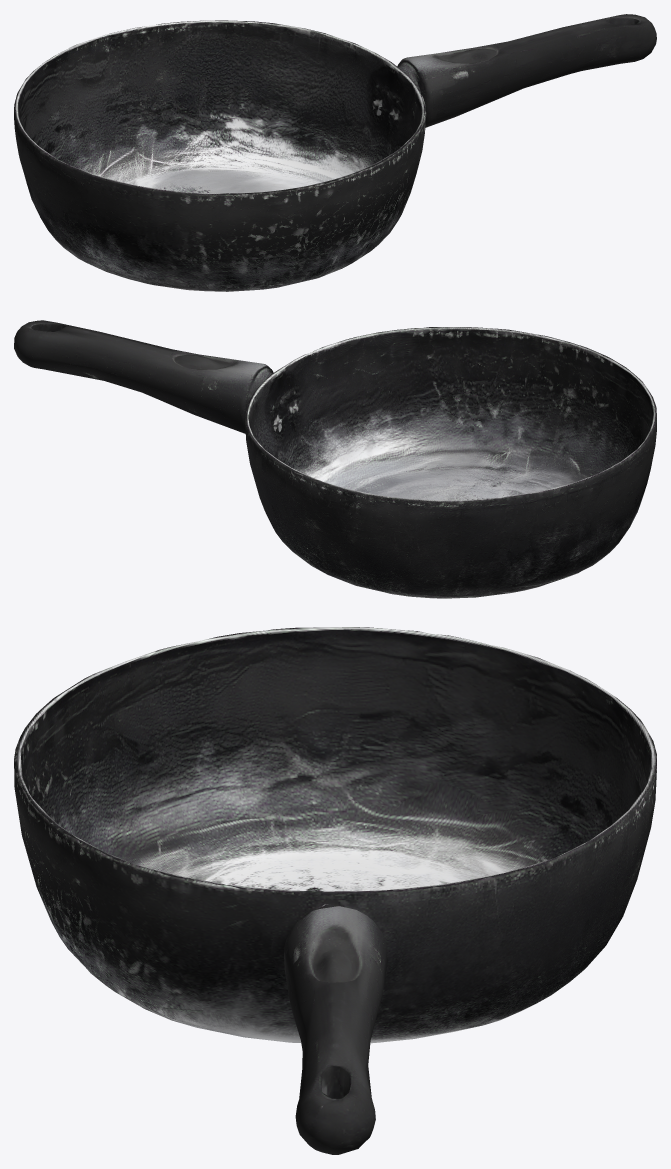
File: FryingPan.fbx
The picture shows the model from 3 angles, top to bottom: view 1: azimuth 30°, elevation 25°; view 2: azimuth 150°, elevation 25°; view 3: azimuth 270°, elevation 25°; orthographic projection. The views are drawn at different scales.
Parts seen in each view (by area): view 1: Mesh_0; view 2: Mesh_0; view 3: Mesh_0.
Boxes of the visible parts, x1,y1,x2,y2 form: Mesh_0: (14, 14, 656, 291); Mesh_0: (14, 320, 656, 598); Mesh_0: (14, 627, 656, 1154).
Size of the model in its own units: 191 by 36.93 by 112.
1 material, 1 textured.
